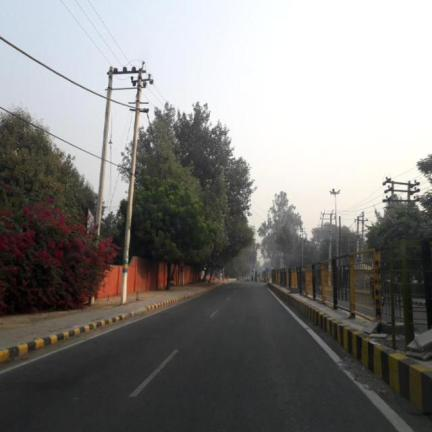Road: (0, 283, 394, 431)
